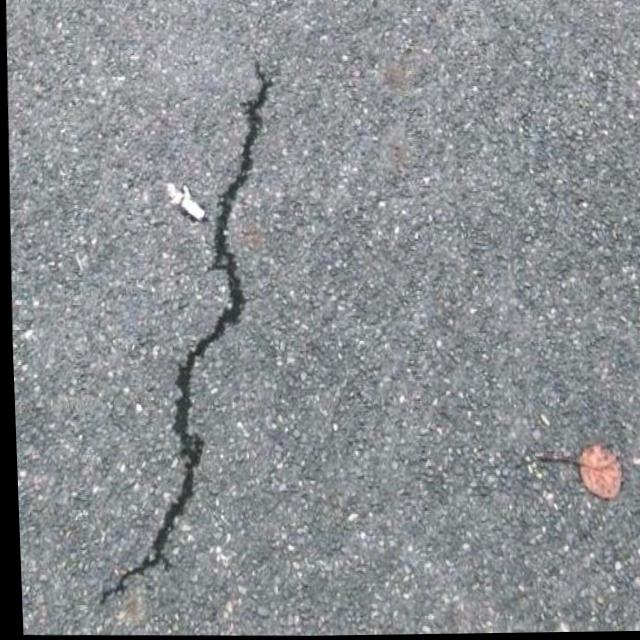Crack: (79, 42, 309, 613)
